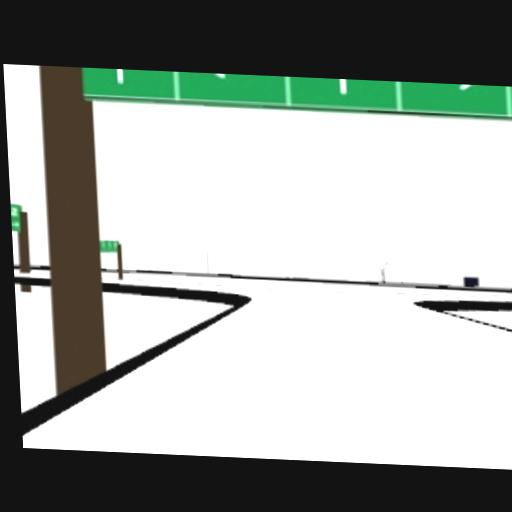Left: (203, 73, 258, 81)
Right: (425, 83, 478, 93)
Straight: (330, 79, 359, 96), (105, 69, 134, 82)
